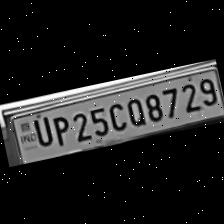2: (66, 106, 92, 142), (174, 78, 200, 114)
5: (84, 101, 110, 137)
7: (158, 84, 180, 119)
8: (139, 88, 164, 123)
9: (192, 72, 218, 108)
C: (103, 97, 127, 132)
P: (46, 110, 72, 146)
Q: (121, 92, 147, 127)
U: (28, 112, 54, 148)
